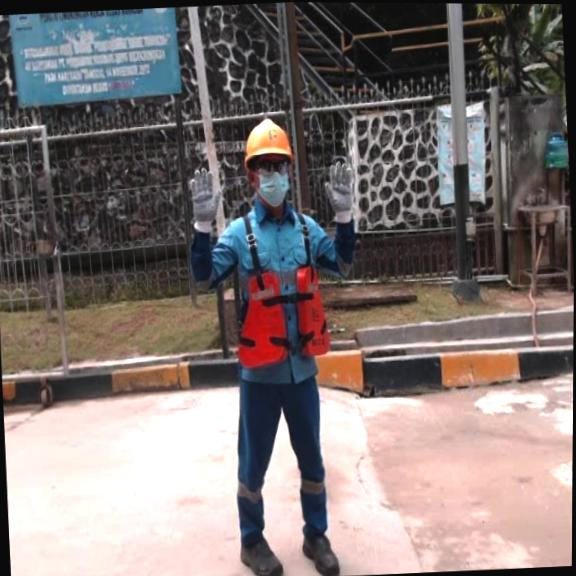safety_vest: (231, 261, 333, 369)
